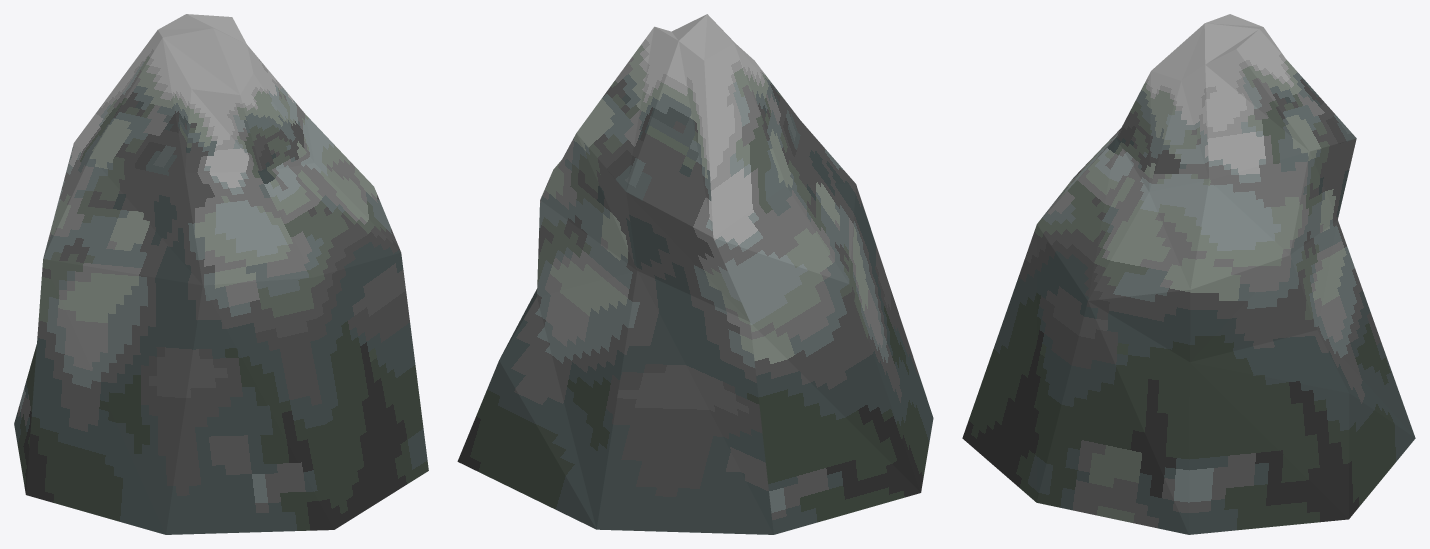
The picture shows the model from 3 angles, left to right: view 1: azimuth 30°, elevation 25°; view 2: azimuth 150°, elevation 25°; view 3: azimuth 270°, elevation 25°; orthographic projection. The views are drawn at different scales.
Size of the model in its own units: 2.99 by 3 by 2.97.
1 material, 1 textured.
